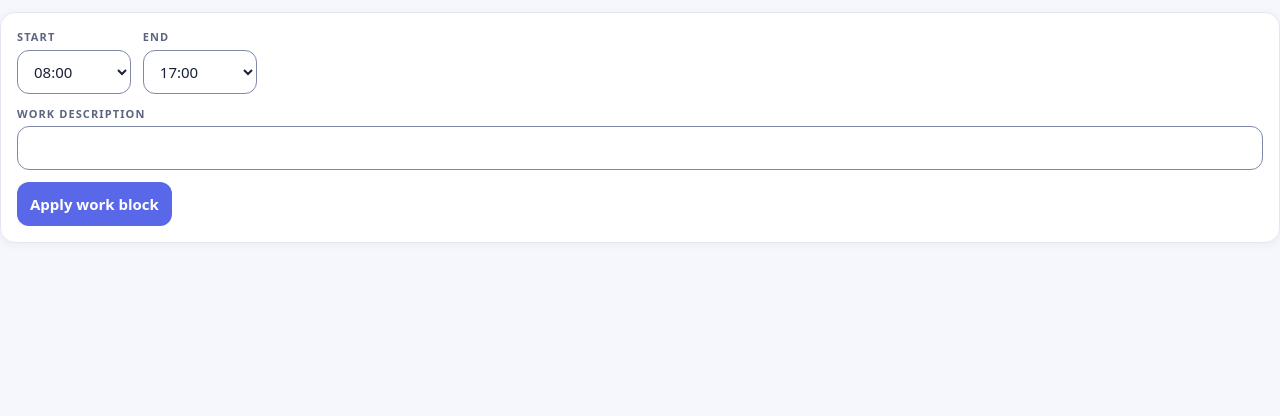
WorkBlockForm › keeps the existing work text when the replacement is declined
Select "09:00" in the dropdown labelled "Start" at point(74, 72), box x1=17 y1=50 x2=131 y2=94
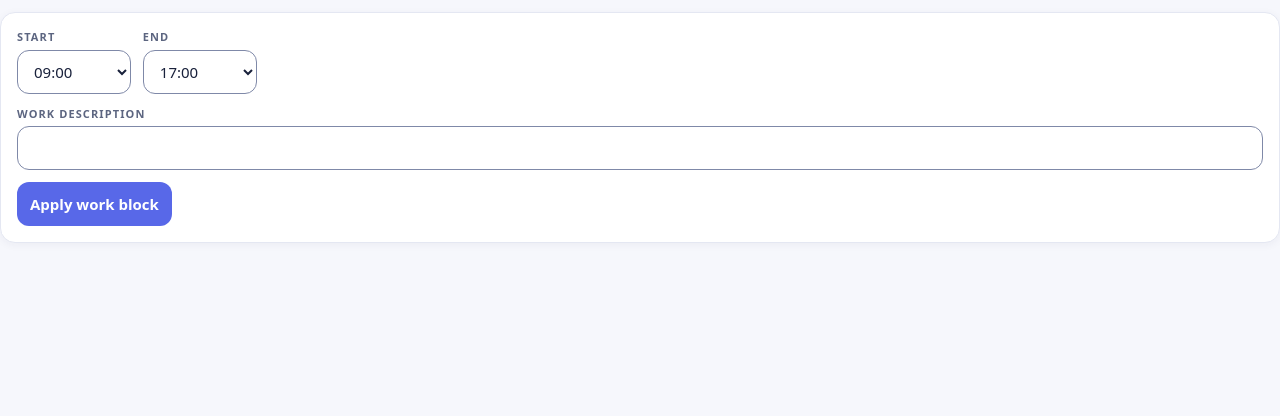
Select "10:00" in the dropdown labelled "End" at point(200, 72), box x1=143 y1=50 x2=257 y2=94
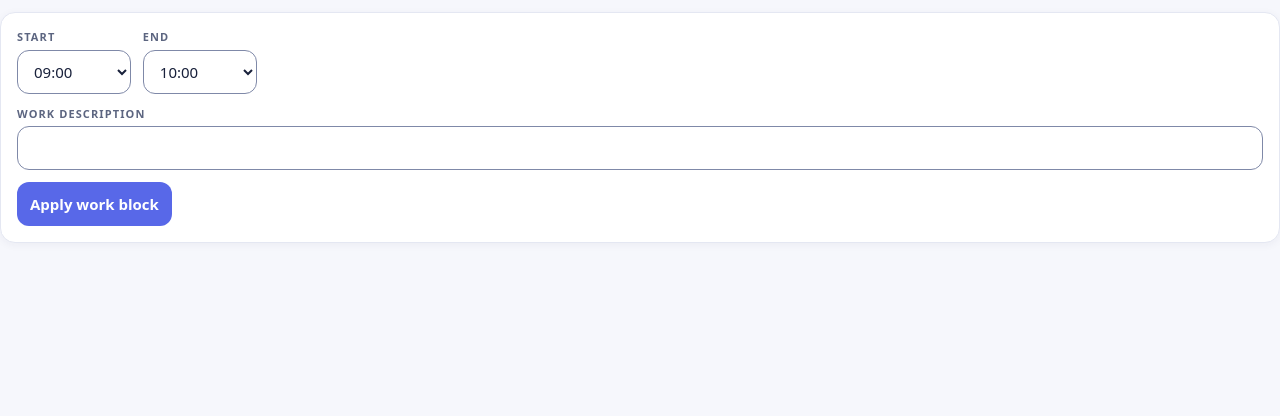
Type "Client report" into the field labelled "Work description".
click(640, 148); type("Client report")  # box x1=17 y1=126 x2=1263 y2=170
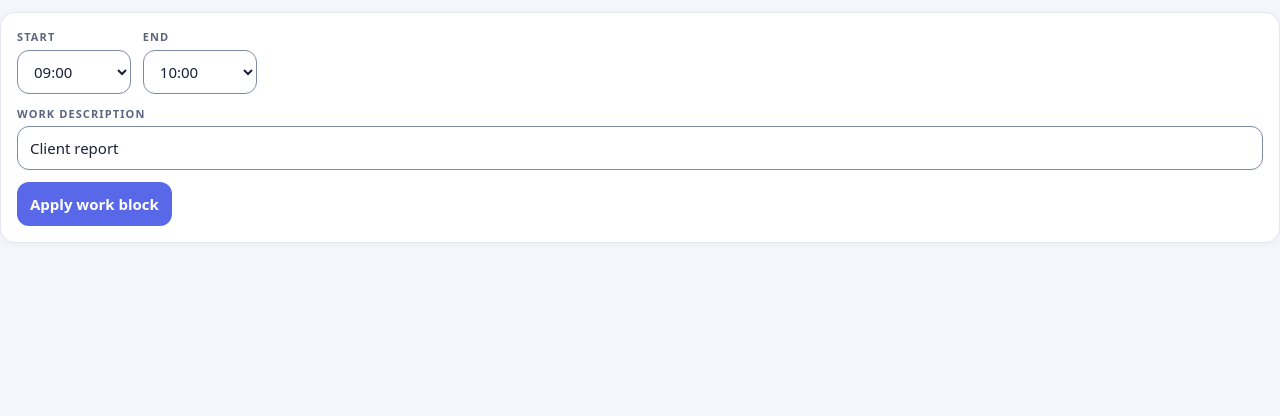
Click the button "Apply work block".
click(94, 204)  # box x1=17 y1=182 x2=172 y2=226
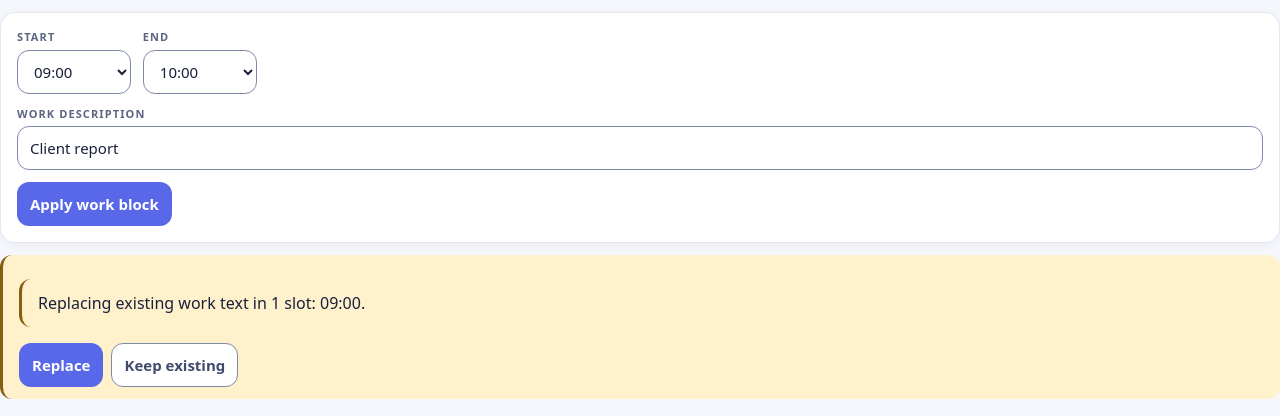
Click the button "Keep existing".
click(175, 365)  # box x1=112 y1=343 x2=238 y2=387
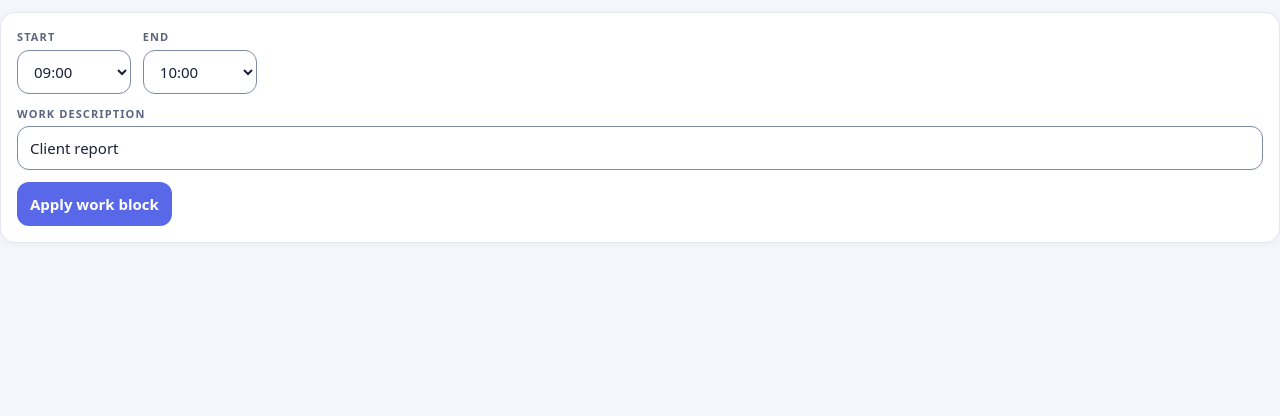
Expected: the message "Replacing existing work text in 1 slot: 09:00." is gone
